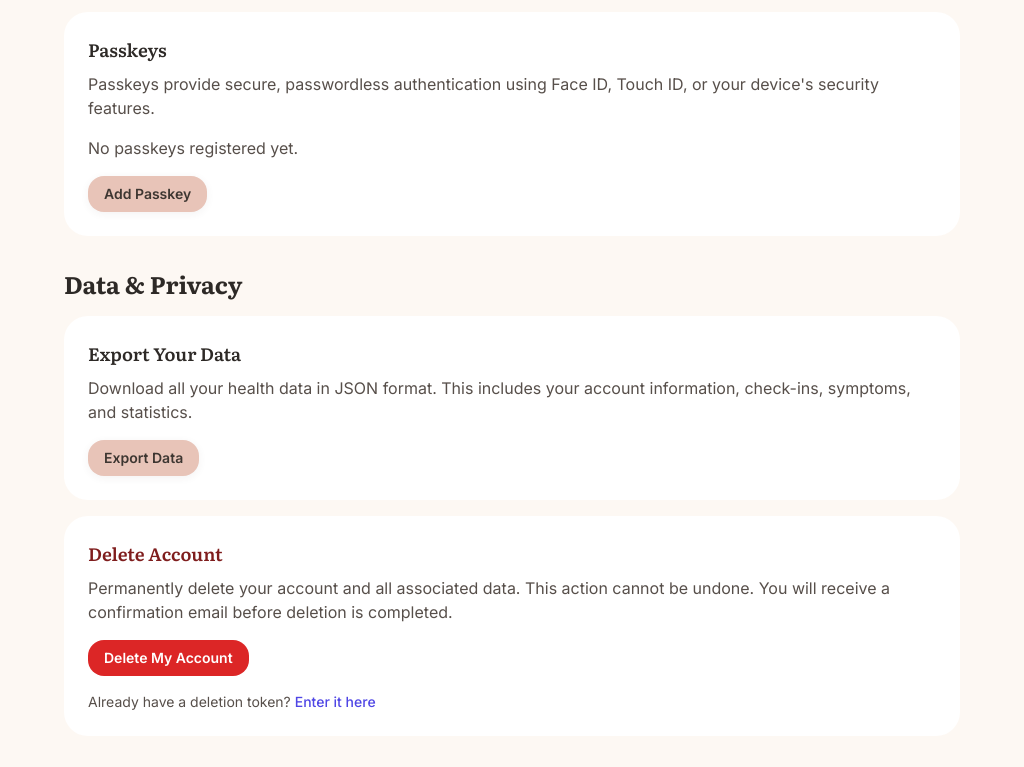
Test: SettingsPage › Delete Account › should show confirmation dialog when delete button is clicked
This screenshot has width=1024, height=767.
(page scrolled)
Click the button "Delete My Account" at x=168, y=658, box [88,640,249,676]
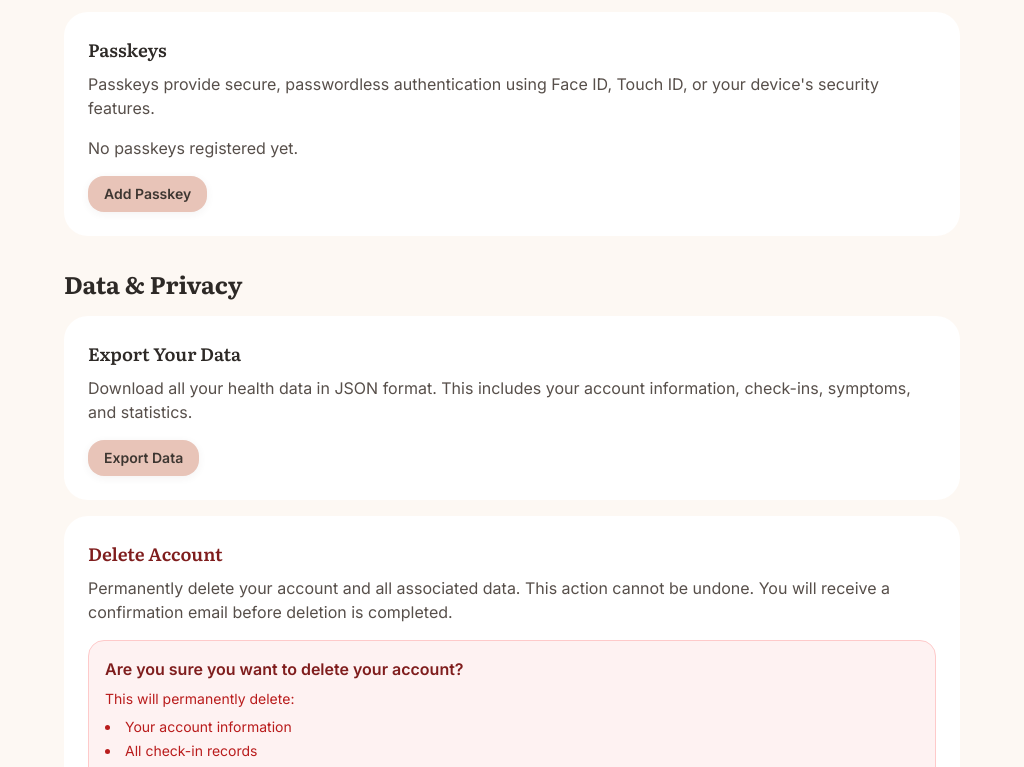
Expected: the text "your account information" is shown, [88,378,911,422]
Result: the text "Are you sure you want to delete your account?" is shown at [105,659,464,679]
Result: the list item "All check-in records" is shown at [125,742,258,759]
